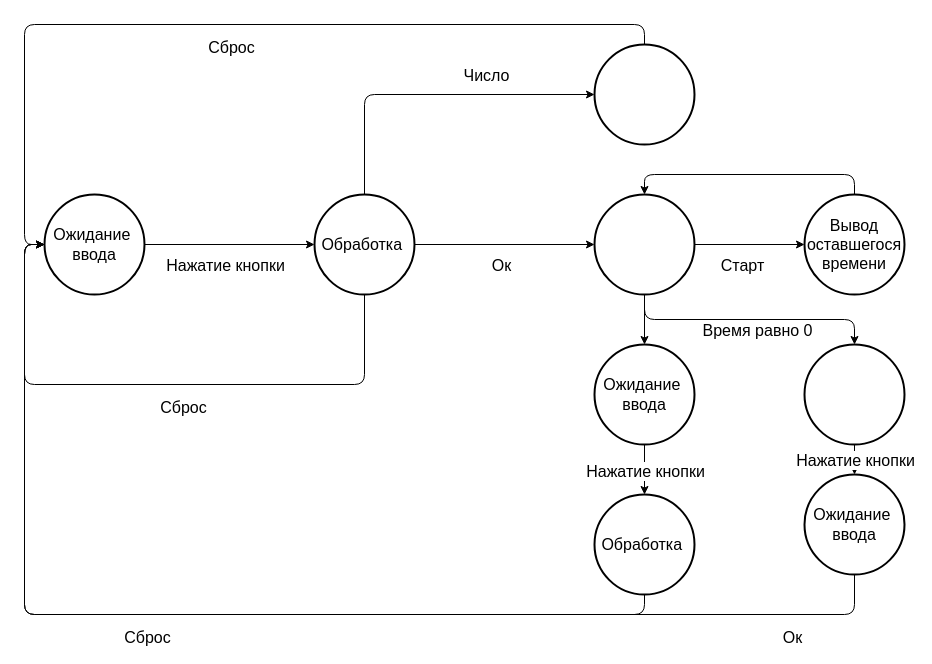
This 932x664 diagram has some shape labels left out. Here are the shapes that lost their labels. From the top down, the box of each, then its label:
(593, 43, 695, 145): Вывод на дисплей
(593, 193, 695, 295): Отсчёт времени
(803, 343, 905, 445): Конец отсчёта
